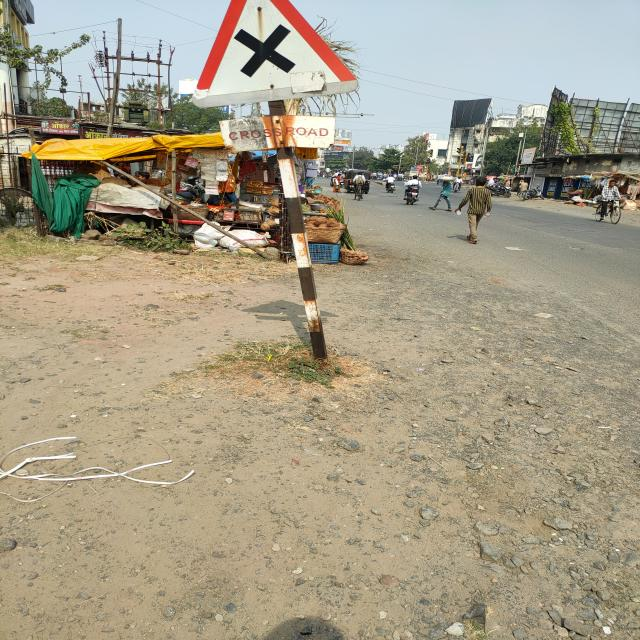CROSS_ROAD: (190, 1, 360, 112)
